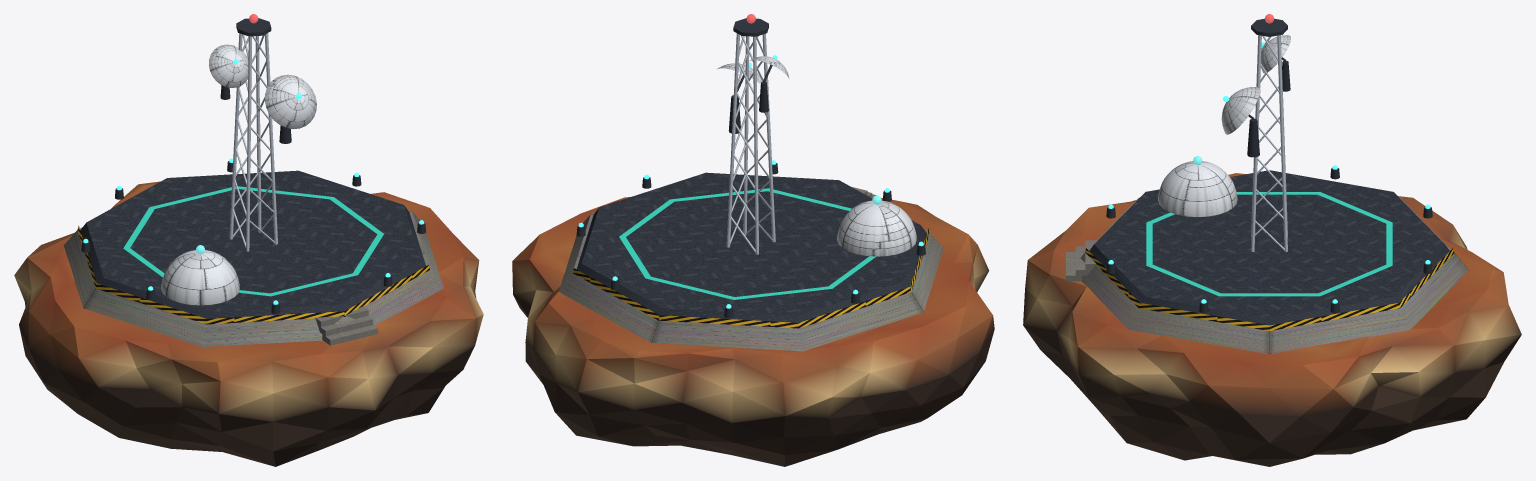
3 views of the same model, side by side, from view 1: azimuth 30°, elevation 25°; view 2: azimuth 150°, elevation 25°; view 3: azimuth 270°, elevation 25° (orthographic).
Parts seen in each view (by area): view 1: object 1, object 4, object 2, anim:rot (×2), object 88, object 3, object 5, object 22, object 23, object 82; view 2: object 1, object 4, object 2, object 88, object 3, object 5, object 82; view 3: object 1, object 4, object 2, object 88, object 3, object 5, anim:rot (×2), object 82.
Part boxes in pixels (left/top/right/bottom): object 1: left=14, top=181, right=483, bottom=466; object 4: left=80, top=170, right=425, bottom=318; object 2: left=63, top=210, right=443, bottom=346; anim:rot (×2): left=209, top=44, right=316, bottom=128; object 88: left=161, top=250, right=239, bottom=305; object 3: left=77, top=225, right=429, bottom=324; object 5: left=123, top=186, right=383, bottom=296; object 22: left=322, top=325, right=377, bottom=345; object 23: left=318, top=316, right=373, bottom=336; object 82: left=236, top=18, right=271, bottom=36; object 1: left=512, top=197, right=994, bottom=466; object 4: left=576, top=172, right=926, bottom=322; object 2: left=559, top=212, right=943, bottom=351; object 88: left=837, top=200, right=916, bottom=256; object 3: left=573, top=228, right=929, bottom=328; object 5: left=619, top=188, right=875, bottom=299; object 82: left=733, top=18, right=768, bottom=36; object 1: left=1023, top=173, right=1521, bottom=466; object 4: left=1089, top=170, right=1449, bottom=325; object 2: left=1080, top=197, right=1468, bottom=354; object 88: left=1158, top=161, right=1237, bottom=217; object 3: left=1085, top=248, right=1454, bottom=330; object 5: left=1146, top=192, right=1392, bottom=296; anim:rot (×2): left=1221, top=35, right=1290, bottom=134; object 82: left=1251, top=18, right=1287, bottom=36.
Size of the model in its own units: 6.25 by 5.36 by 6.25.
12 materials, 4 textured.
